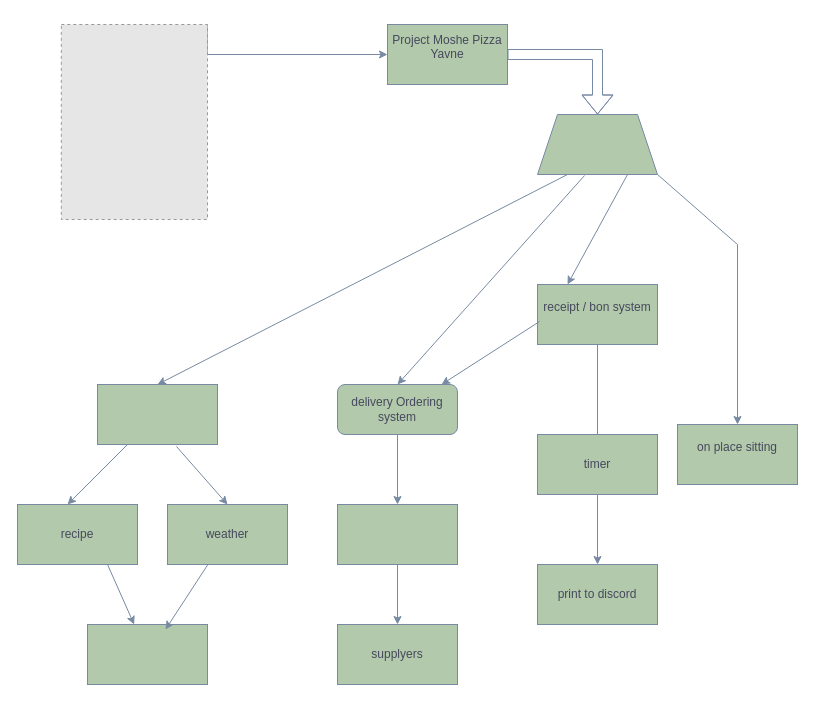
Some shapes in this 815 by 702 pixel diagram are drawn without their labels. Grey dashed boxes stand in for pictures. Here are the shapes that lost their labels. From the top down, the centre of each, then its label:
At pixel 597 144: "Ideas".
At pixel 157 414: "Real Life Ingerdients check".
At pixel 397 534: "Invetory system".
At pixel 147 654: "Math".
